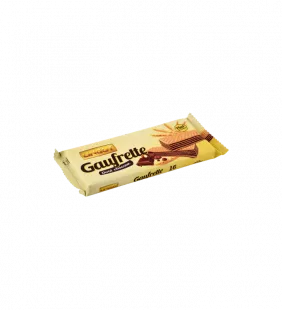LINGOT: (44, 107, 236, 204)
